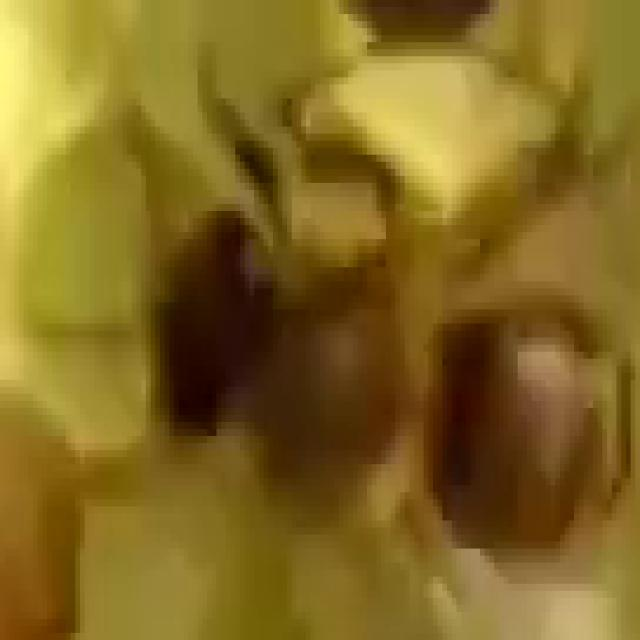honeybee: (122, 136, 640, 611)
